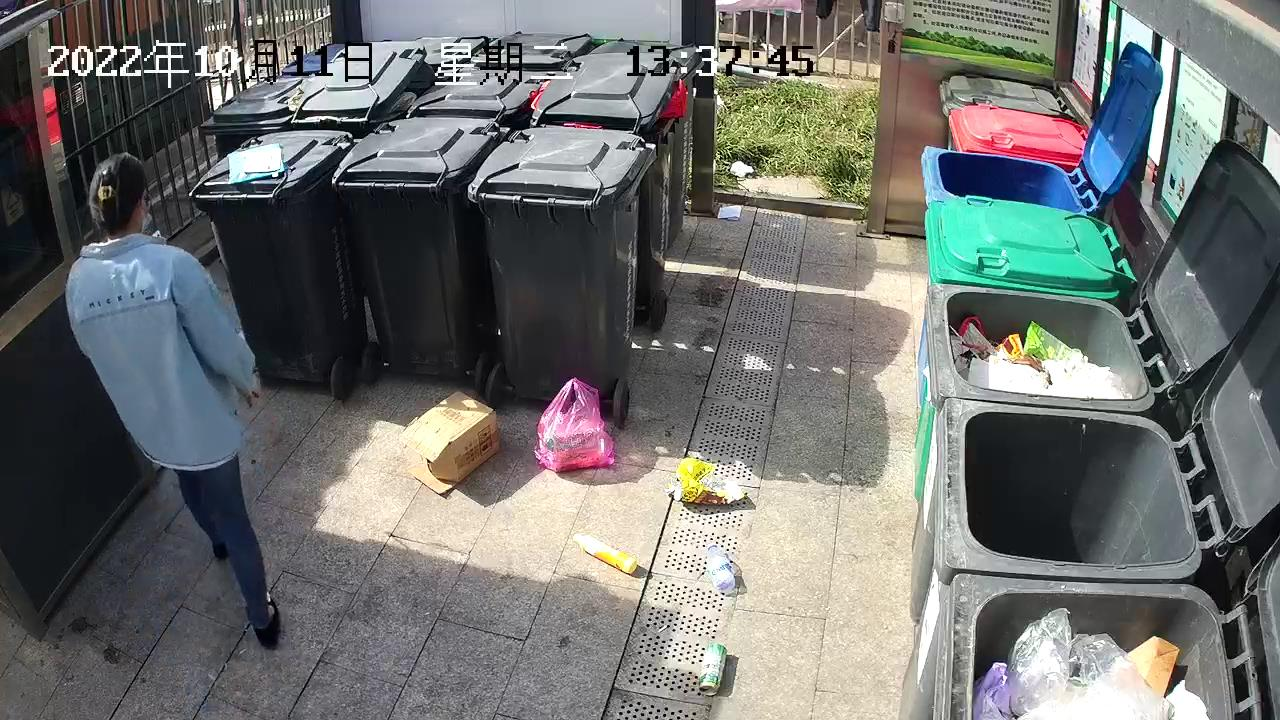garbage: (662, 454, 750, 514)
garbage-bag: (531, 371, 620, 478)
lvzhipin: (695, 639, 730, 697)
suliaozhipin: (569, 528, 640, 579), (702, 536, 740, 595)
worker: (58, 146, 286, 658)
zhizhipin: (394, 386, 506, 502)
